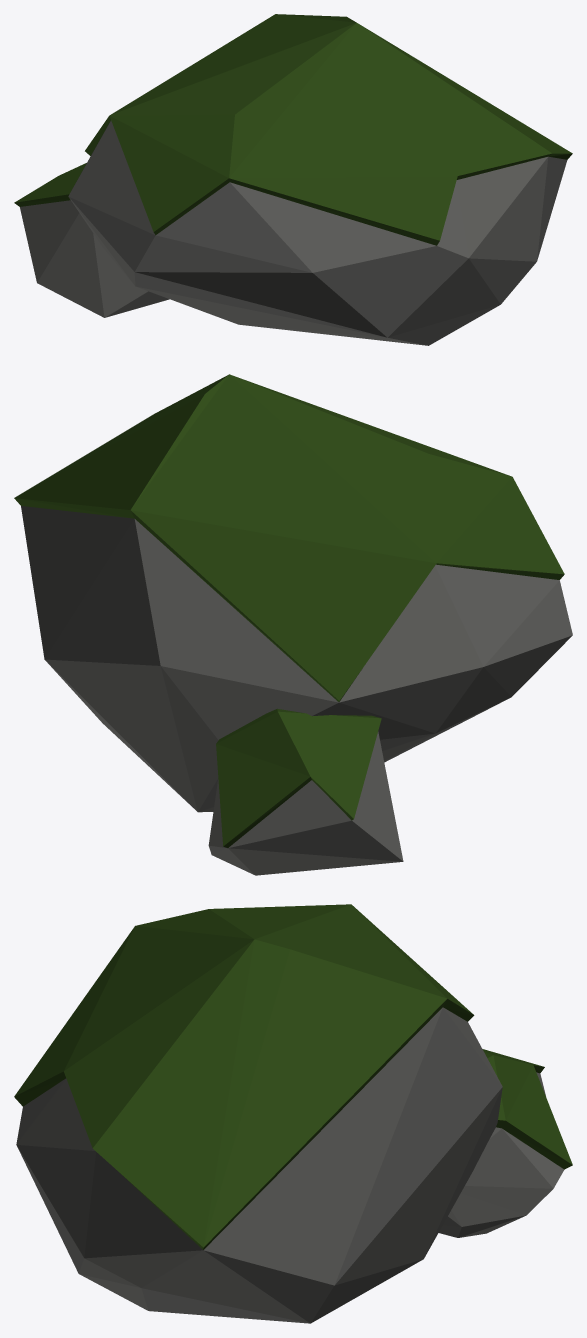
The model's file is roca_musgo.fbx.
3 renders of one model, top to bottom at view 1: azimuth 30°, elevation 25°; view 2: azimuth 150°, elevation 25°; view 3: azimuth 270°, elevation 25°, orthographic. The views are drawn at different scales.
Parts seen in each view (by area): view 1: roca_musgo; view 2: roca_musgo; view 3: roca_musgo.
Part boxes in pixels (left/top/right/bottom): roca_musgo: left=14, top=14, right=572, bottom=345; roca_musgo: left=14, top=374, right=572, bottom=875; roca_musgo: left=14, top=904, right=572, bottom=1323.
Bounding box in the file's own units: 2.32 × 1.52 × 2.11.
